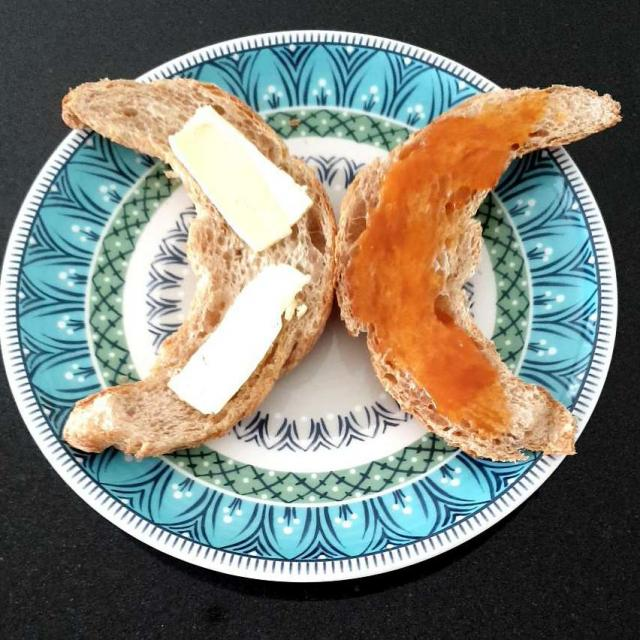butter: (161, 101, 310, 410)
croissant-wholegrain: (115, 89, 616, 453)
jam: (369, 102, 558, 440)
